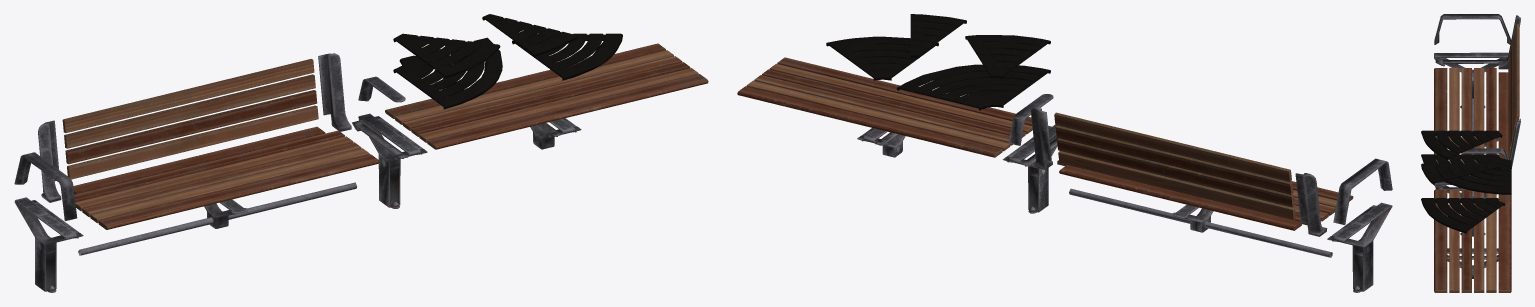
The model's file is modular_street_seating.glb.
The picture shows the model from 3 angles, left to right: view 1: azimuth 30°, elevation 25°; view 2: azimuth 150°, elevation 25°; view 3: azimuth 270°, elevation 25°; orthographic projection. The views are drawn at different scales.
Visible parts, largest first — view 1: seat_back, seat, seat_bench, connector_90, legs_double, connector_45, legs_single, connector_60, crossbar, connector_30, back_support_l, arm_rest_01 (+4 smaller); view 2: seat_bench, seat_back, connector_90, seat, connector_60, legs_single, connector_45, legs_double, crossbar, connector_30, arm_rest_01, back_support_r (+4 smaller); view 3: seat_bench, seat, connector_90, connector_60, connector_45, seat_back, connector_30, legs_single, arm_rest_01, arm_rest_02, back_support_r, legs_double (+3 smaller).
Part boxes in pixels (x1,y1,x2,y2): seat_back: (62, 59, 318, 179); seat: (73, 126, 379, 229); seat_bench: (385, 43, 708, 149); connector_90: (393, 37, 502, 109); legs_double: (352, 113, 427, 208); connector_45: (393, 33, 500, 78); legs_single: (14, 197, 83, 292); connector_60: (512, 33, 622, 80); crossbar: (78, 182, 357, 255); connector_30: (482, 14, 577, 56); back_support_l: (318, 53, 351, 131); arm_rest_01: (14, 152, 77, 220); seat_bench: (737, 57, 1032, 157); seat_back: (1054, 112, 1295, 220); connector_90: (896, 64, 1050, 110); seat: (1057, 160, 1353, 230); connector_60: (826, 36, 938, 80); legs_single: (1327, 202, 1392, 292); connector_45: (965, 35, 1050, 78); legs_double: (1002, 125, 1058, 213); crossbar: (1069, 188, 1332, 257); connector_30: (910, 14, 966, 57); arm_rest_01: (1333, 158, 1392, 224); back_support_r: (1295, 173, 1327, 236); seat_bench: (1434, 189, 1511, 292); seat: (1434, 68, 1509, 163); connector_90: (1421, 154, 1511, 194); connector_60: (1421, 198, 1505, 233); connector_45: (1421, 130, 1502, 160); seat_back: (1508, 24, 1519, 157); connector_30: (1421, 163, 1500, 184); legs_single: (1434, 52, 1508, 108); arm_rest_01: (1434, 14, 1511, 44); arm_rest_02: (1461, 148, 1508, 159); back_support_r: (1498, 15, 1520, 69); legs_double: (1434, 181, 1486, 236).
Size of the model in its own units: 4.34 by 0.95 by 0.7704.
5 materials, 5 textured.
